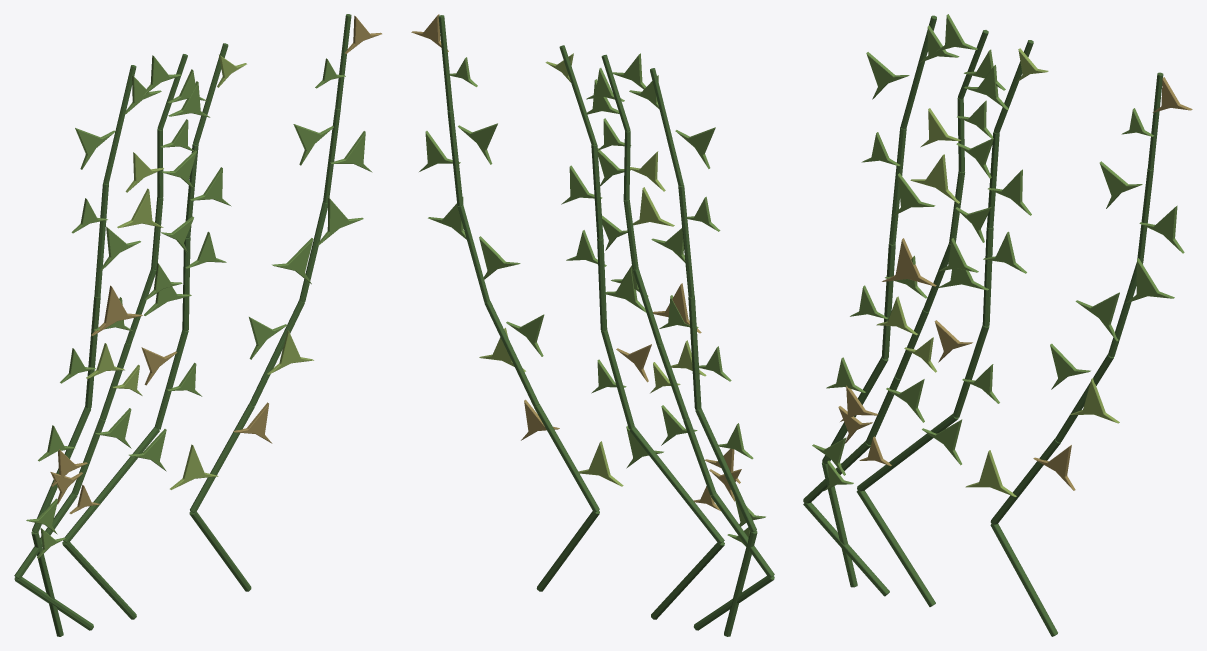
File: runtime.glb
3 views of the same model, side by side, from view 1: azimuth 30°, elevation 25°; view 2: azimuth 150°, elevation 25°; view 3: azimuth 330°, elevation 25° (orthographic). The views are drawn at different scales.
Parts seen in each view (by area): view 1: falkenwacht-wall-ivy-v02_nocol; view 2: falkenwacht-wall-ivy-v02_nocol; view 3: falkenwacht-wall-ivy-v02_nocol.
Part boxes in pixels (x1=…): falkenwacht-wall-ivy-v02_nocol: x1=14, y1=14, x2=381, y2=636; falkenwacht-wall-ivy-v02_nocol: x1=411, y1=14, x2=774, y2=636; falkenwacht-wall-ivy-v02_nocol: x1=803, y1=14, x2=1192, y2=636.
Size of the model in its own units: 2.56 by 3.76 by 0.0794.
